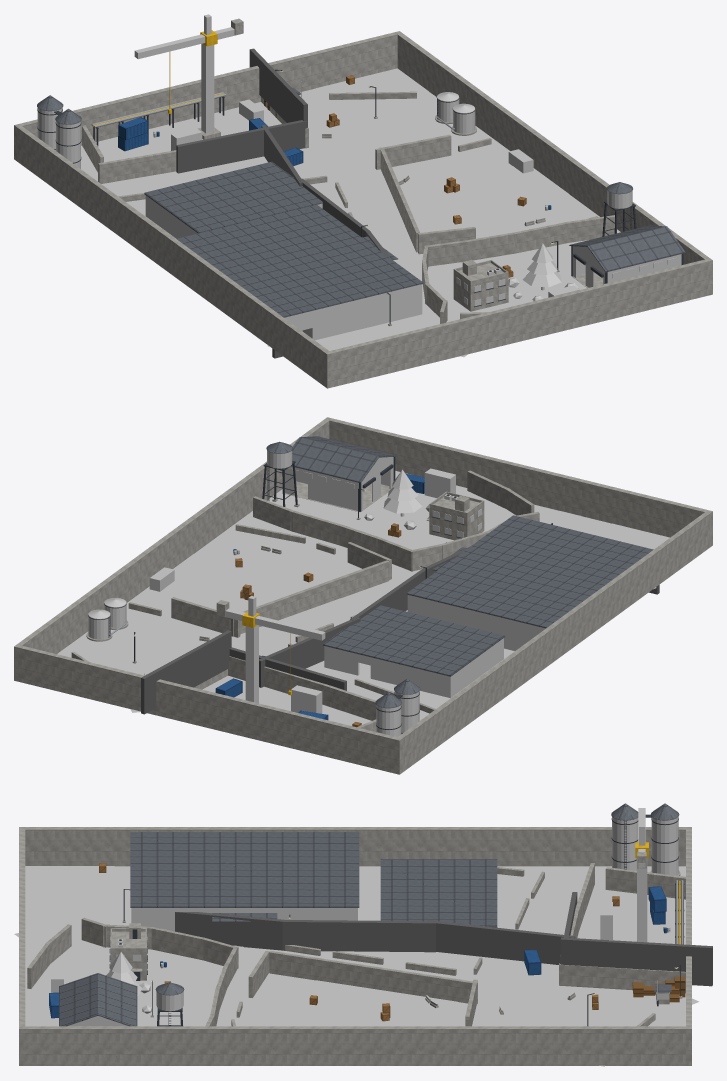
3 renders of one model, top to bottom at view 1: azimuth 30°, elevation 25°; view 2: azimuth 150°, elevation 25°; view 3: azimuth 270°, elevation 25°, orthographic. The views are drawn at different scales.
Parts seen in each view (by area): view 1: Wall_Concrete, Add_Ceiling, Ground_Sand, Site_Tiles, Add_Brick, Add_Metal_Light, Cube.004, Ground_Grass, Add_Concrete, Road_Asphalt, Crane_Lattice, Cube.003 (+12 smaller); view 2: Wall_Concrete, Add_Ceiling, Ground_Sand, Site_Tiles, Add_Brick, Add_Metal_Light, Ground_Grass, Cube.003, Add_Concrete, Crane_Lattice, Cube, Add_Metal_Dark (+10 smaller); view 3: Wall_Concrete, Add_Ceiling, Ground_Sand, Site_Tiles, Ground_Grass, Cube.005, Cube.003, Cube, Add_Metal_Light, Cube.006, Road_Asphalt, Add_Brick (+11 smaller).
Part boxes in pixels (x1,y1,x2,y2): Wall_Concrete: (14,18,712,388); Add_Ceiling: (144,161,685,317); Ground_Sand: (81,88,620,350); Site_Tiles: (368,159,569,238); Add_Brick: (145,195,422,340); Add_Metal_Light: (37,92,681,287); Cube.004: (176,120,306,173); Ground_Grass: (438,246,586,319); Add_Concrete: (322,115,603,326); Road_Asphalt: (267,95,467,357); Crane_Lattice: (134,14,242,133); Cube.003: (249,48,307,127); Wall_Concrete: (14,417,712,774); Add_Ceiling: (291,436,653,676); Ground_Sand: (57,471,611,725); Site_Tiles: (164,546,370,677); Add_Brick: (324,595,545,697); Add_Metal_Light: (88,450,457,737); Ground_Grass: (273,471,515,549); Cube.003: (141,630,231,714); Add_Concrete: (86,482,484,663); Crane_Lattice: (220,596,325,703); Cube: (259,617,360,687); Add_Metal_Dark: (88,457,552,733); Wall_Concrete: (19,827,691,1065); Add_Ceiling: (59,832,497,1026); Ground_Sand: (25,866,685,1026); Site_Tiles: (249,980,465,1026); Ground_Grass: (25,952,219,1026); Cube.005: (282,920,435,952); Cube.003: (560,937,712,986); Cube: (426,920,575,964); Add_Metal_Light: (68,817,678,1026); Cube.006: (175,912,284,950); Road_Asphalt: (14,878,699,1066); Add_Brick: (131,908,357,931).
Size of the model in its own units: 92.65 by 29.02 by 134.
